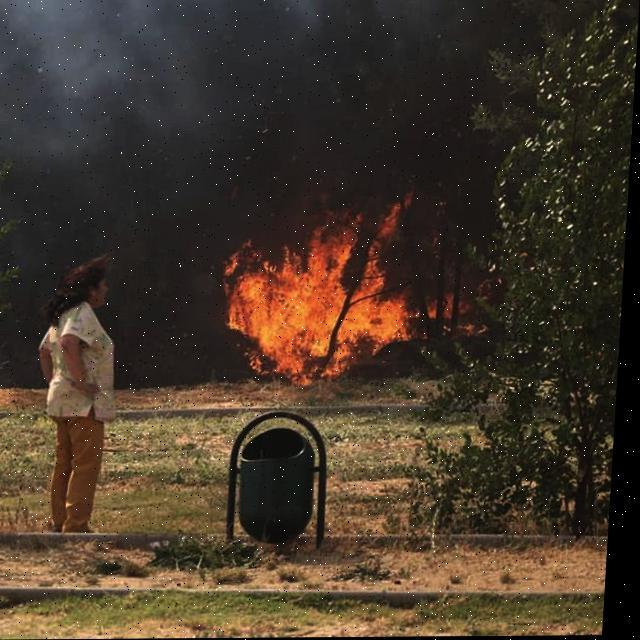Fire: (219, 190, 422, 382), (419, 290, 470, 320)
